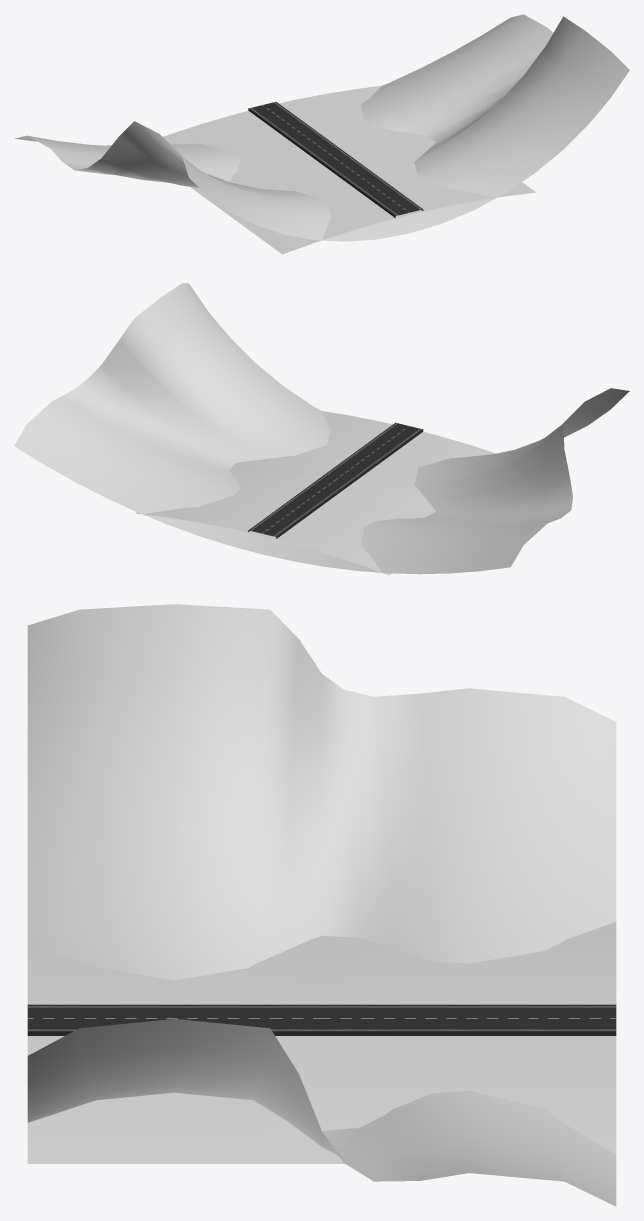
The model's file is trans_01.FBX.
The picture shows the model from 3 angles, top to bottom: view 1: azimuth 30°, elevation 25°; view 2: azimuth 150°, elevation 25°; view 3: azimuth 270°, elevation 25°; orthographic projection. The views are drawn at different scales.
Visible parts, largest first — view 1: Plane007, Plane008, Box007; view 2: Plane007, Plane008, Box007; view 3: Plane007, Plane008, Box007.
Boxes of the visible parts, x1,y1,x2,y2 form: Plane007: (15,14,629,241); Plane008: (163,86,535,254); Box007: (248,102,423,217); Plane007: (14,283,629,574); Plane008: (135,411,495,575); Box007: (248,422,423,538); Plane007: (27,604,616,1206); Plane008: (27,921,616,1163); Box007: (27,1004,616,1035).
Size of the model in its own units: 50166 by 11921 by 25600.
